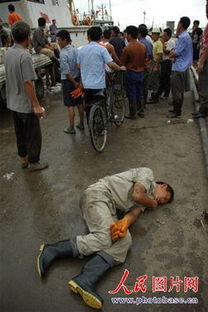10+: (2, 1, 208, 170)
down: (35, 166, 180, 309)
